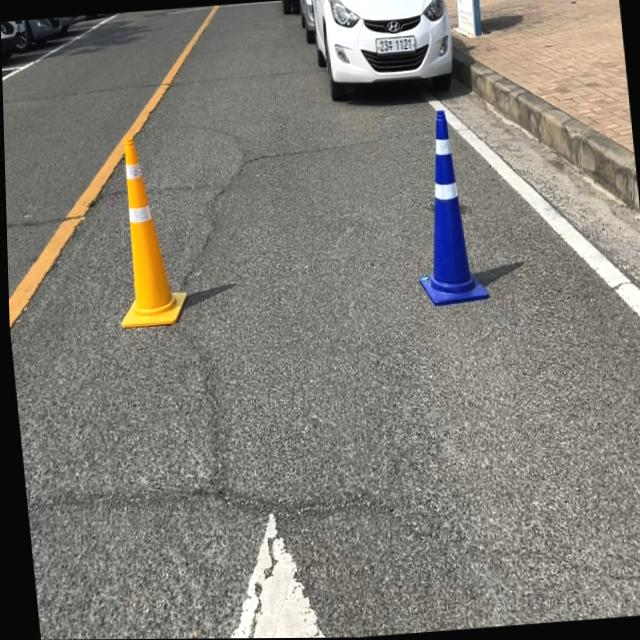b_rub: (418, 105, 487, 304)
y_rub: (119, 135, 184, 327)
